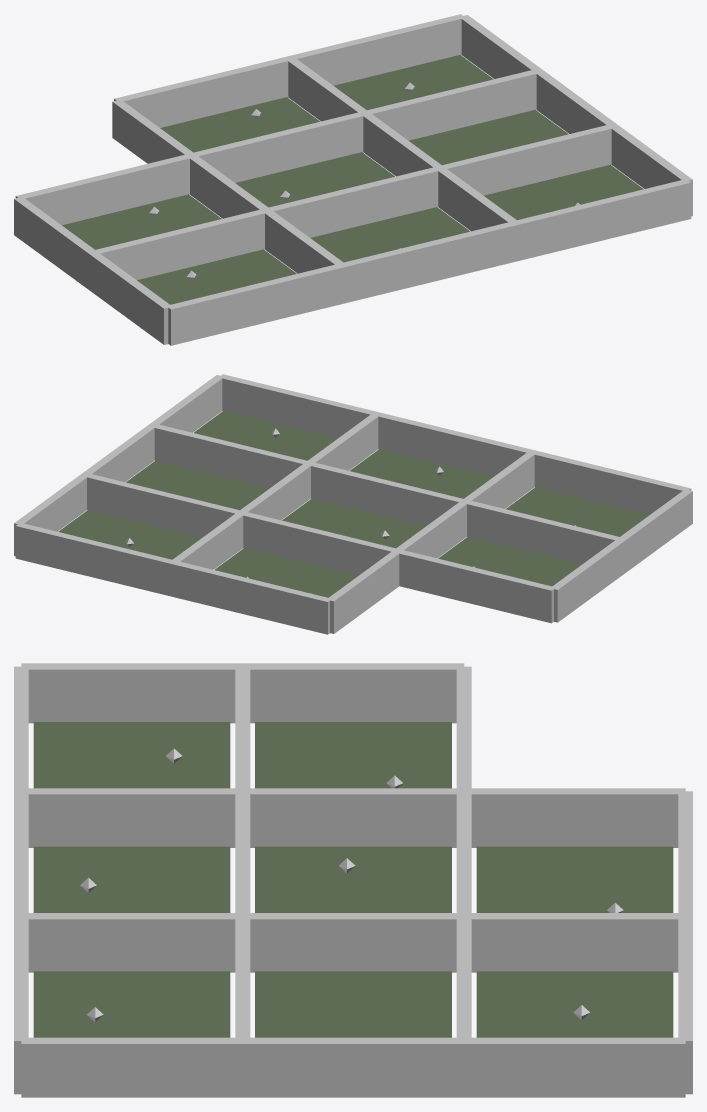
The model's file is layout_main.obj.
3 renders of one model, top to bottom at view 1: azimuth 30°, elevation 25°; view 2: azimuth 150°, elevation 25°; view 3: azimuth 270°, elevation 25°, orthographic. The views are drawn at different scales.
Parts seen in each view (by area): view 1: floors, loot_5, walls, loot_1, loot_4, loot_0, loot_3, loot_2; view 2: floors, loot_1, walls, loot_5, loot_4, loot_0, loot_3, loot_2; view 3: floors, loot_5, loot_1, walls, loot_0, loot_4, loot_2, loot_3.
Boxes of the visible parts, bbox=[...] form: floors: bbox=[62, 55, 643, 304]; loot_5: bbox=[405, 70, 692, 260]; walls: bbox=[14, 154, 270, 289]; loot_1: bbox=[112, 56, 368, 280]; loot_4: bbox=[288, 14, 542, 248]; loot_0: bbox=[89, 206, 345, 345]; loot_3: bbox=[280, 169, 518, 303]; loot_2: bbox=[251, 109, 441, 237]; floors: bbox=[58, 411, 649, 597]; loot_1: bbox=[171, 511, 575, 634]; walls: bbox=[396, 500, 625, 623]; loot_5: bbox=[82, 374, 378, 546]; loot_4: bbox=[14, 466, 443, 596]; loot_0: bbox=[462, 450, 692, 572]; loot_3: bbox=[305, 412, 534, 538]; loot_2: bbox=[240, 462, 466, 578]; floors: bbox=[33, 722, 673, 1037]; loot_5: bbox=[14, 916, 590, 1097]; loot_1: bbox=[166, 748, 692, 972]; walls: bbox=[235, 663, 471, 847]; loot_0: bbox=[14, 663, 402, 847]; loot_4: bbox=[80, 877, 692, 1097]; loot_2: bbox=[235, 791, 623, 972]; loot_3: bbox=[14, 791, 355, 972].
Size of the model in its own units: 36.6 by 2.45 by 27.6.
